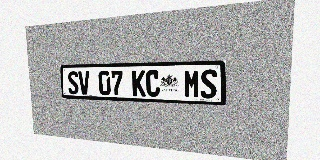0: (98, 71, 111, 95)
7: (110, 70, 123, 96)
C: (146, 70, 160, 97)
K: (132, 70, 146, 96)
M: (184, 69, 200, 98)
S: (200, 69, 217, 99), (67, 71, 79, 94)
V: (78, 71, 90, 95)
